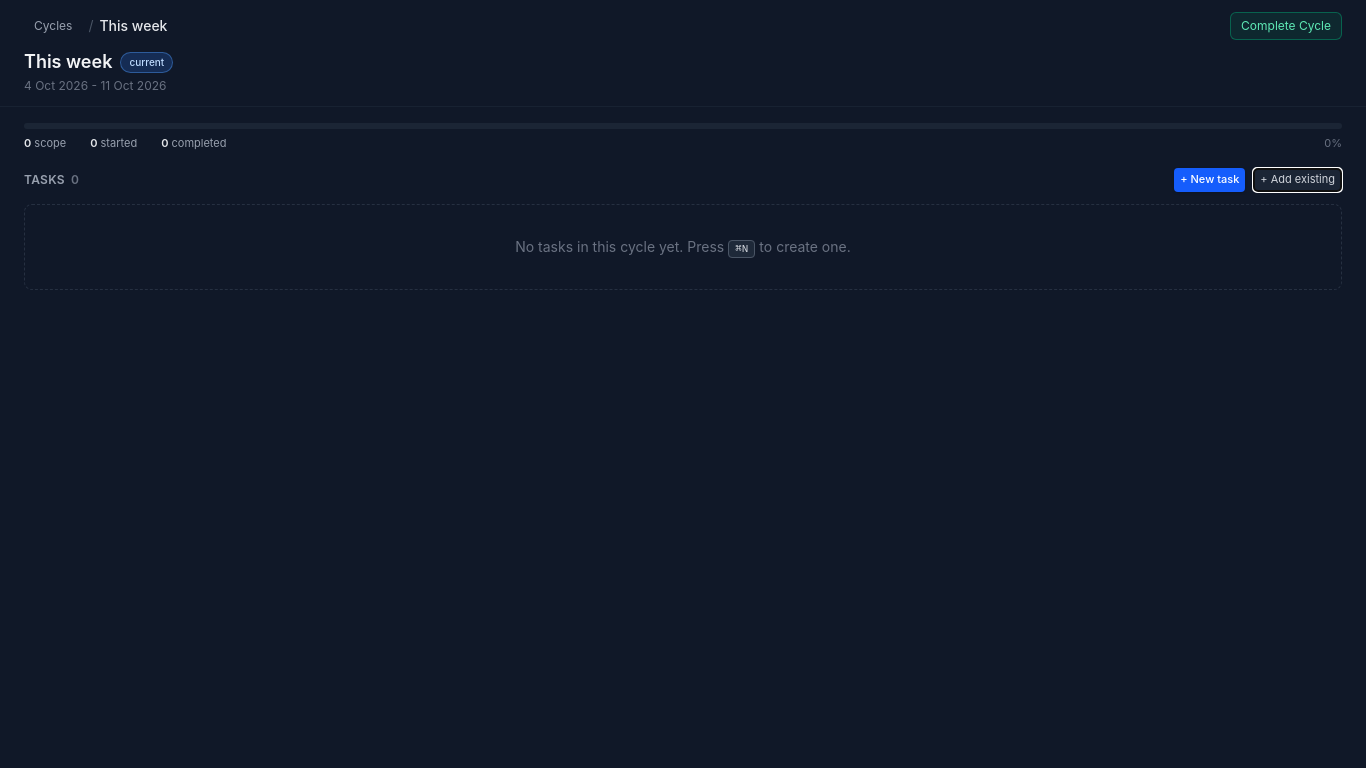
CycleDetail › opens an accessible picker, traps tab focus and restores the opener on Escape
Click the button "+ Add existing" at x=1298, y=180, box [1253,168,1342,192]
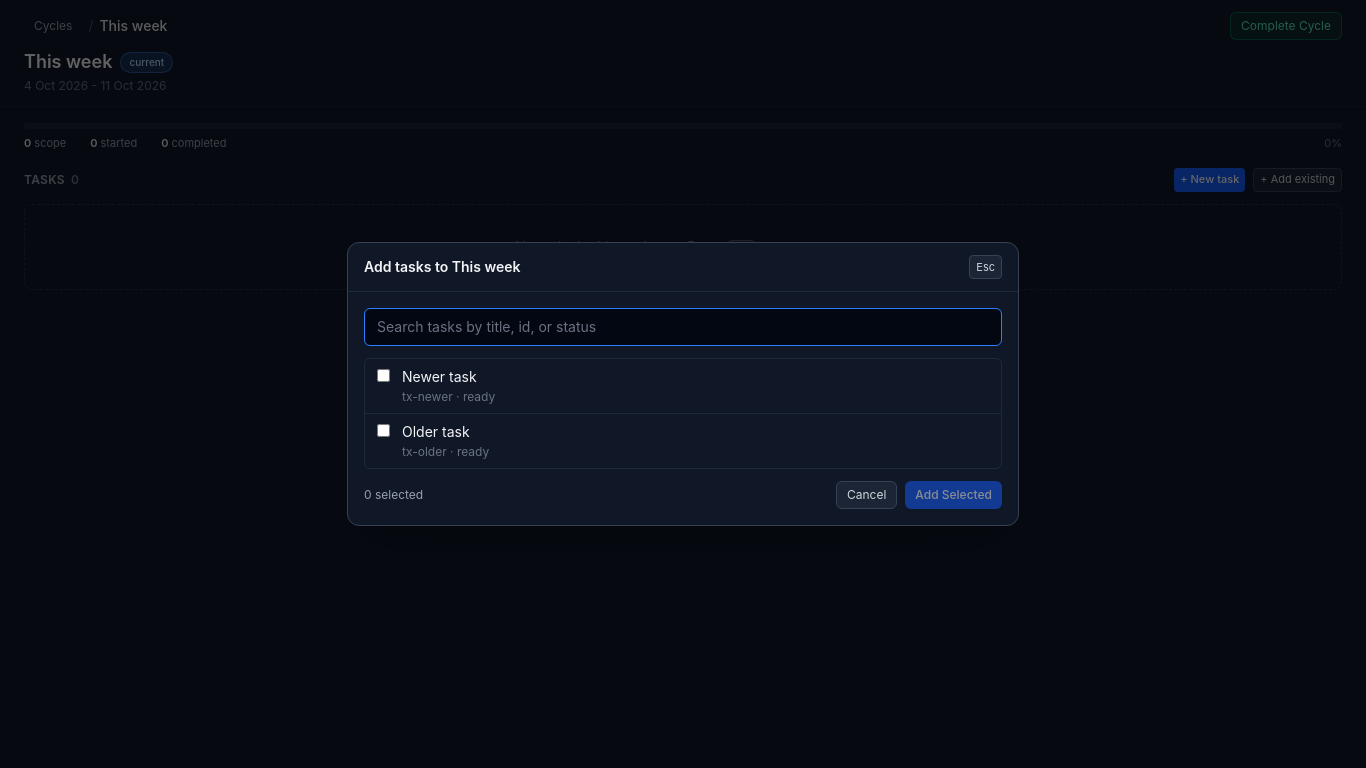
Click the checkbox labelled "Older task tx-older · ready" at x=384, y=430, box [377,424,390,437]
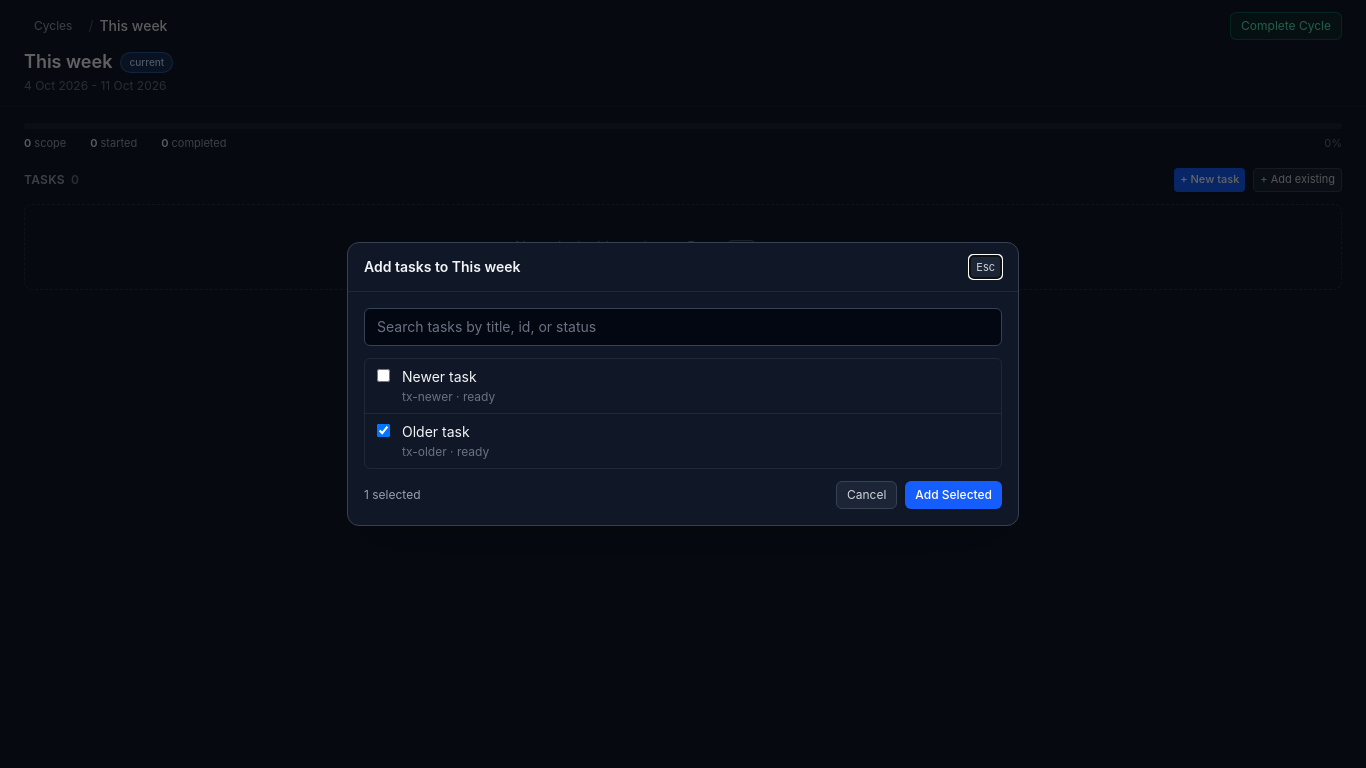
Press Tab in the button with aria-label "Close add tasks", box [969,255,1002,279]
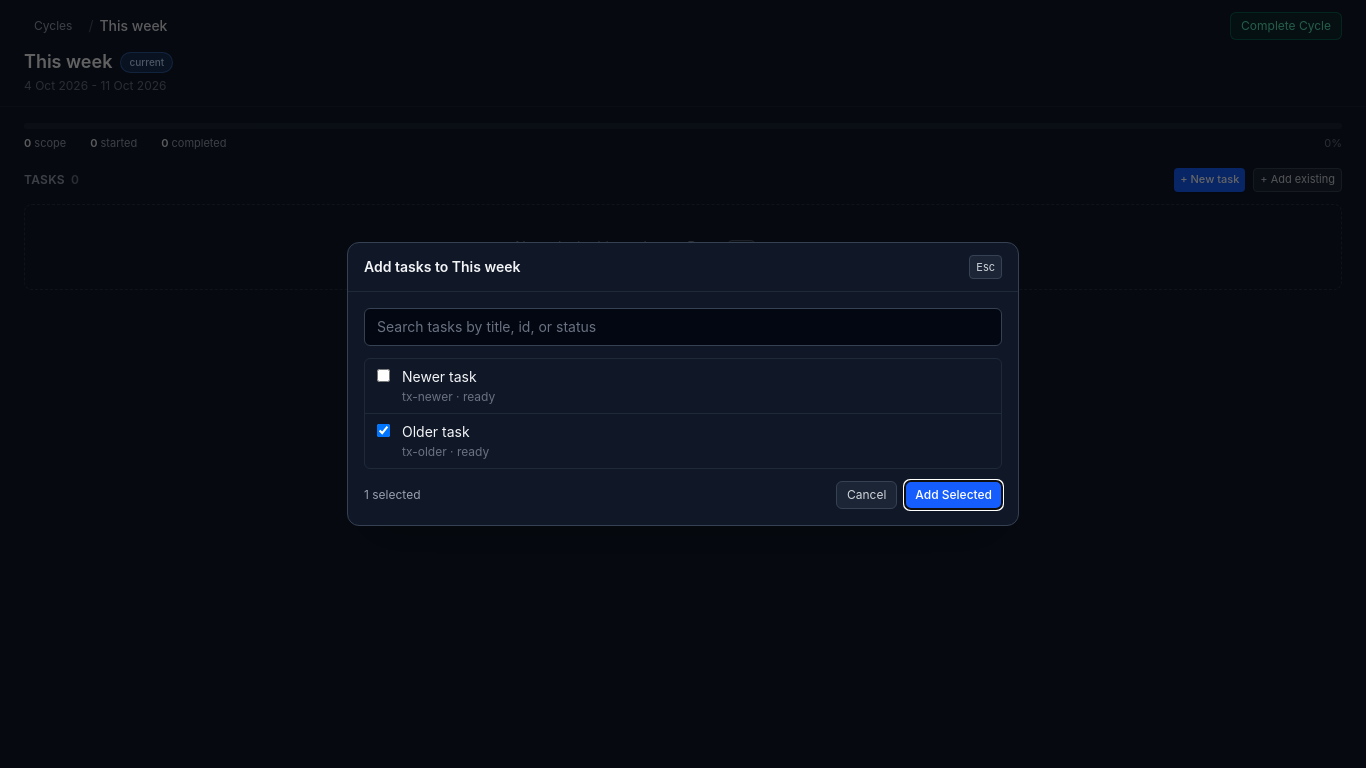
Press Escape in the field named "Search existing tasks", box [364,308,1002,346]
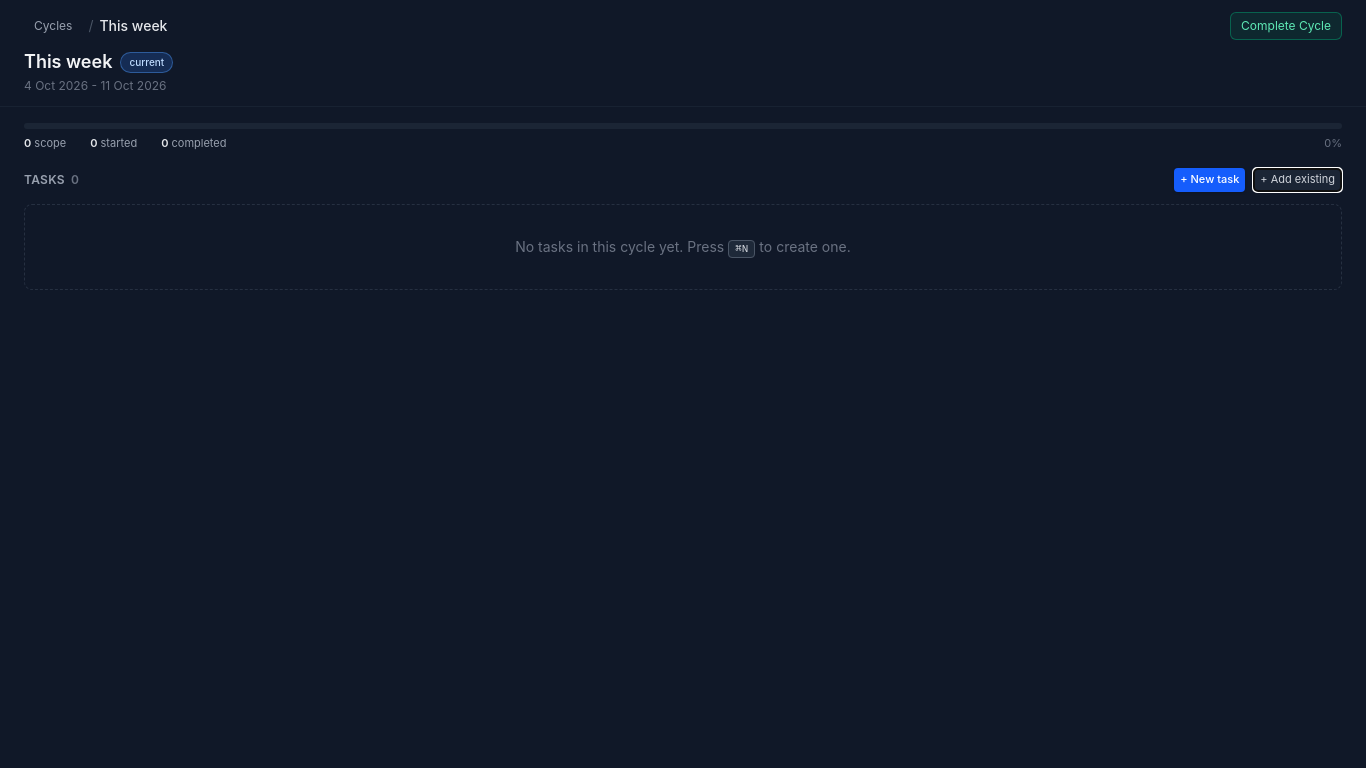
Expected: the dialog is gone
